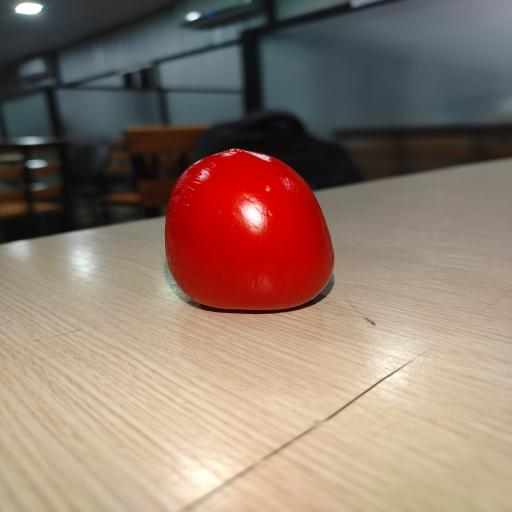overipe: (165, 149, 334, 310)
